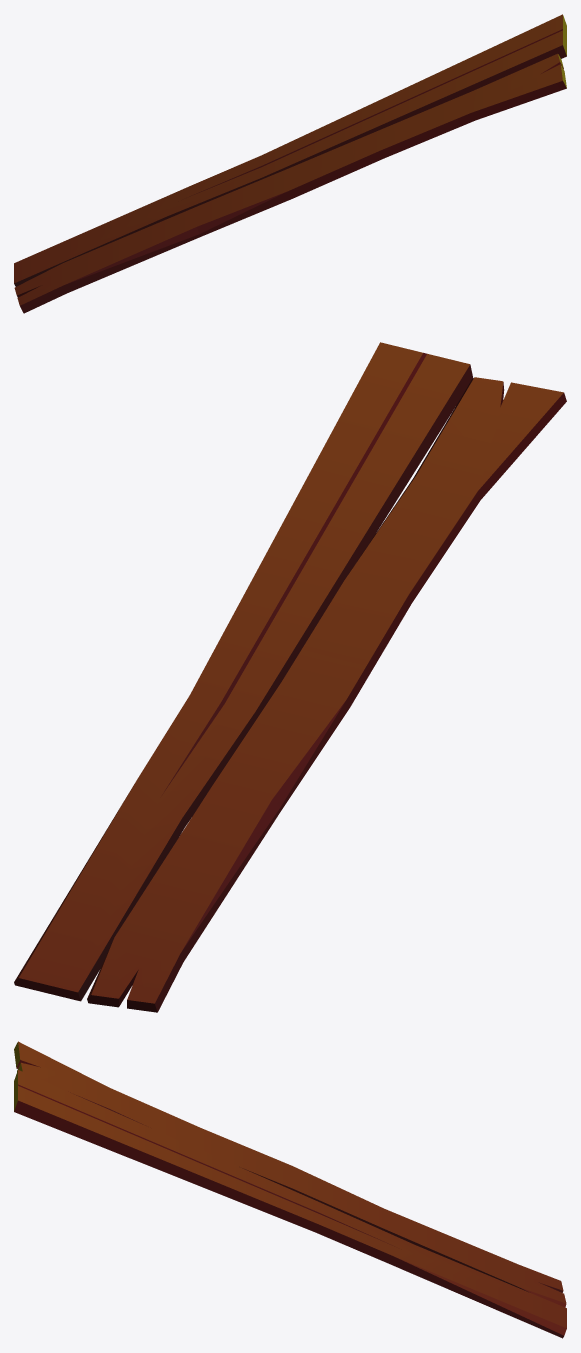
File: stair.fbx
3 views of the same model, one above another, from view 1: azimuth 90°, elevation 25°; view 2: azimuth 150°, elevation 25°; view 3: azimuth 270°, elevation 25° (orthographic). The views are drawn at different scales.
Parts seen in each view (by area): view 1: stair.002; view 2: stair.002; view 3: stair.002.
Boxes of the visible parts, left/top/right/bottom form: stair.002: left=14, top=14, right=566, bottom=313; stair.002: left=14, top=342, right=566, bottom=1012; stair.002: left=14, top=1041, right=566, bottom=1338.
Size of the model in its own units: 1.68 by 3.08 by 6.26.
